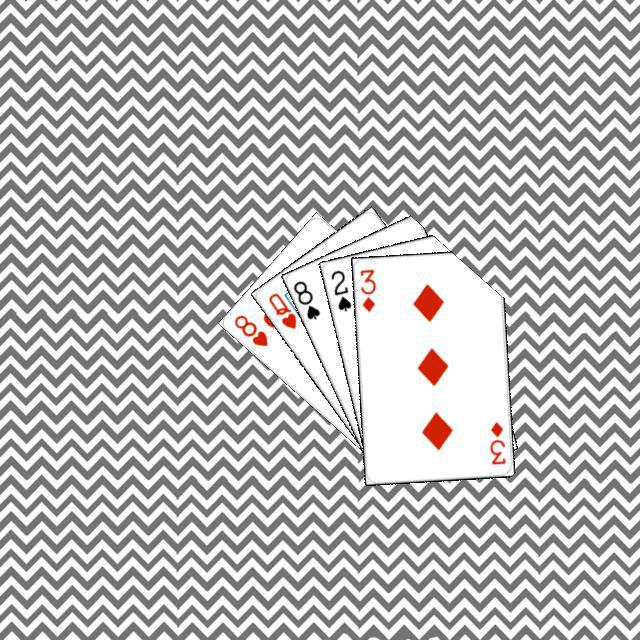2s: (326, 265, 353, 313)
3d: (355, 264, 377, 313), (485, 417, 507, 466)
8h: (229, 310, 270, 348)
8s: (288, 276, 322, 321)
Qh: (263, 288, 298, 331)
